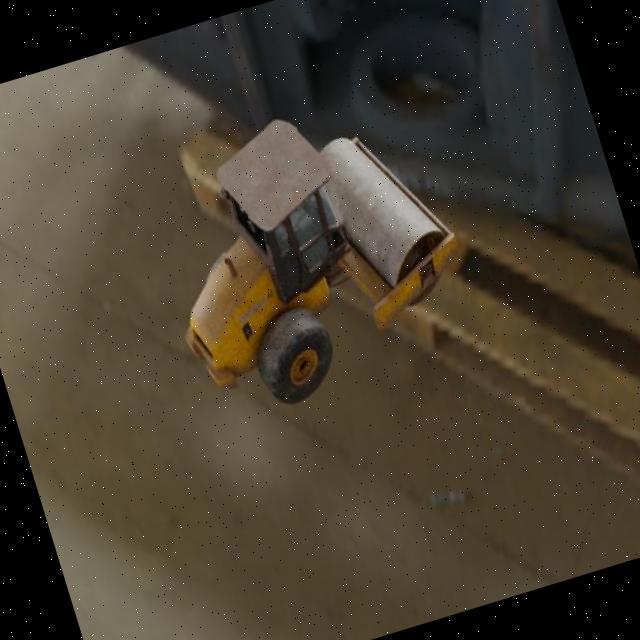Roller: (130, 79, 488, 428)
